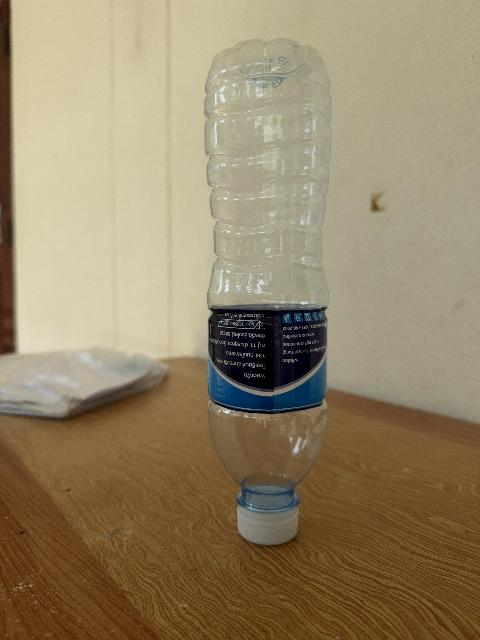bottle: (205, 40, 330, 544)
